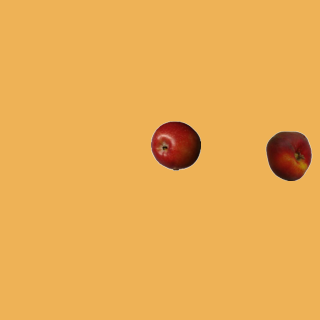Apple Braeburn: (150, 120, 200, 170)
Nectarine Flat: (263, 130, 313, 180)
